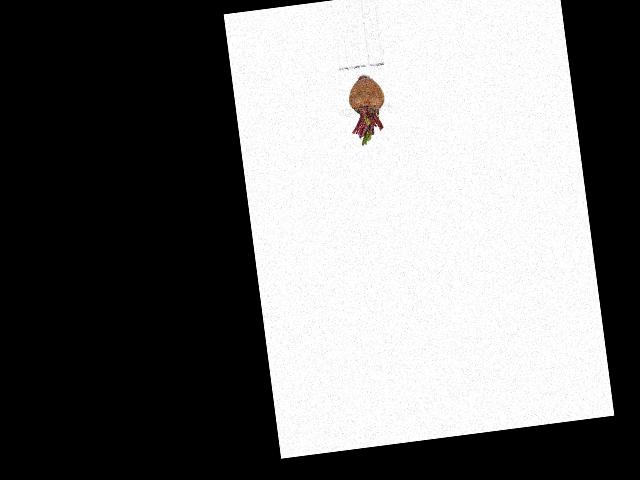beet: (345, 73, 390, 146)
